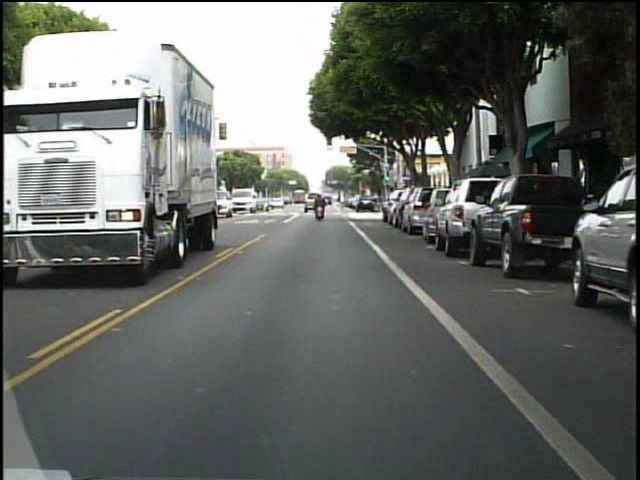person: (313, 192, 327, 223)
